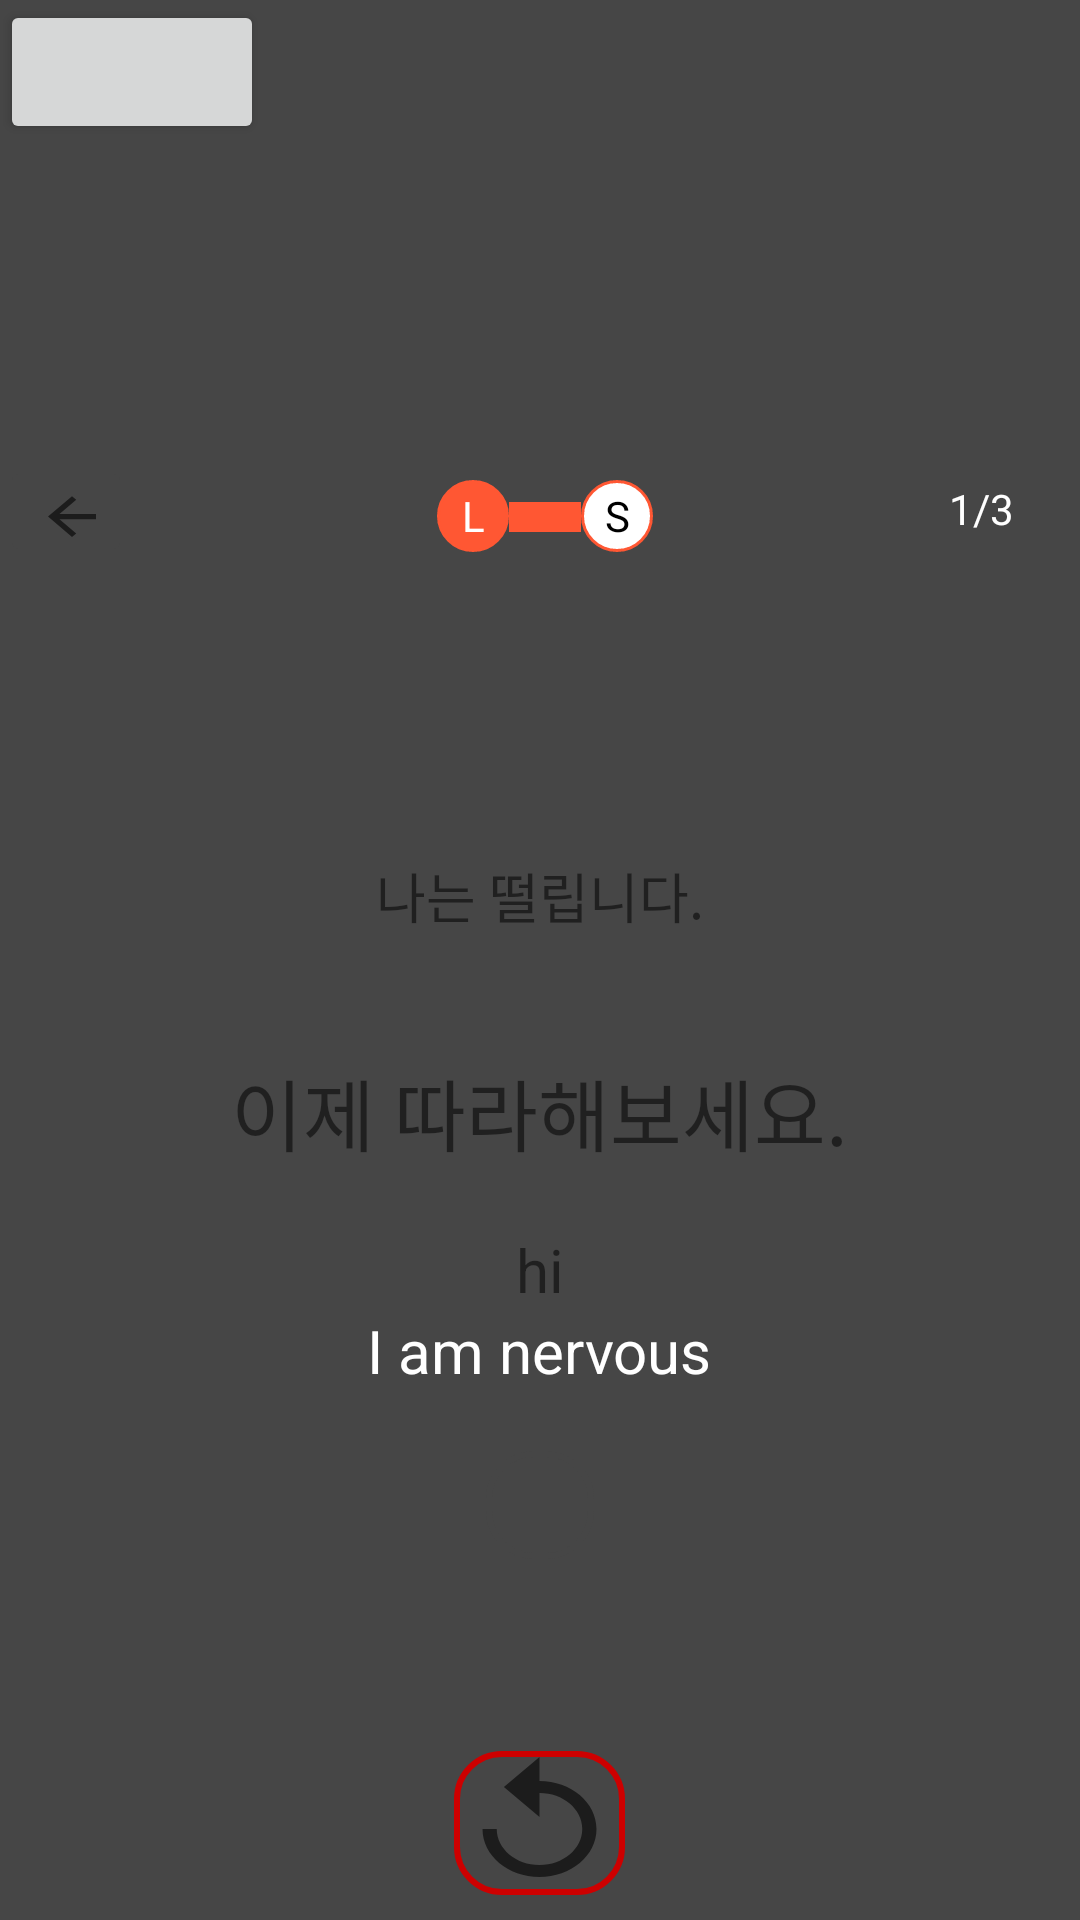

Screen size 1080x1920. Icon name, then its box in pixels as [x1,y1,x2,y2]:
arrow back: [48,497,96,536]
replay: [454,1751,625,1895]
